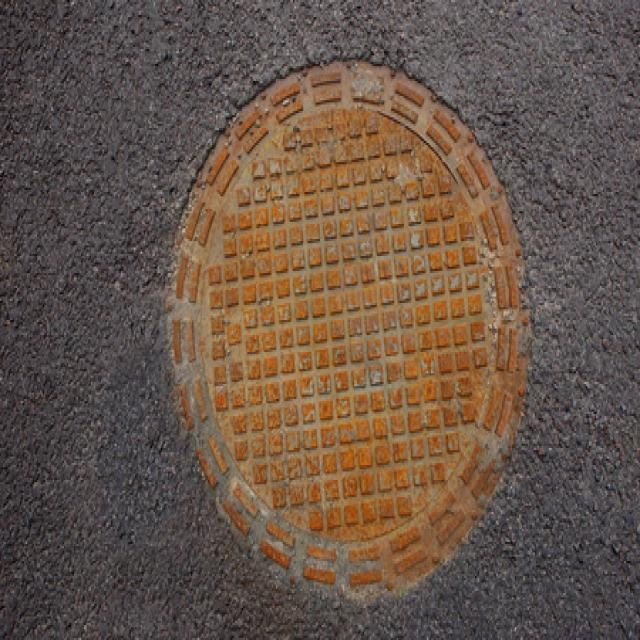manhole: (169, 61, 529, 596)
